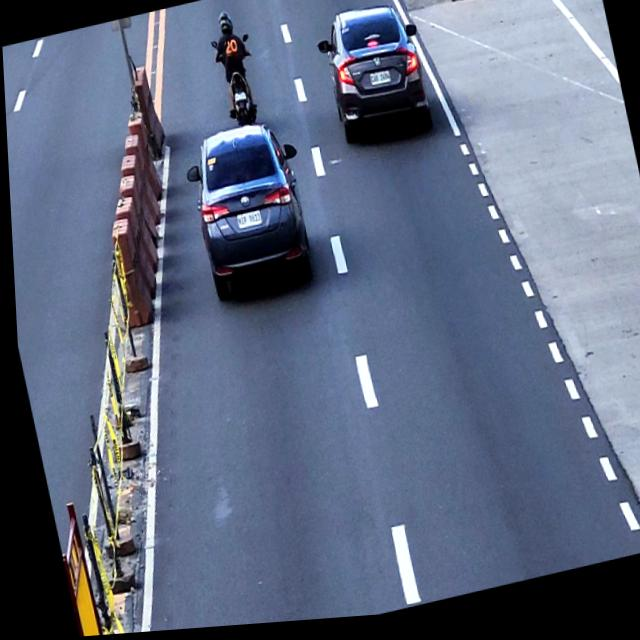Car: (176, 117, 320, 307), (310, 0, 436, 153)
License-Plate: (233, 212, 261, 235), (368, 74, 391, 92), (232, 95, 246, 106)
Motorcycle: (209, 34, 265, 134)
